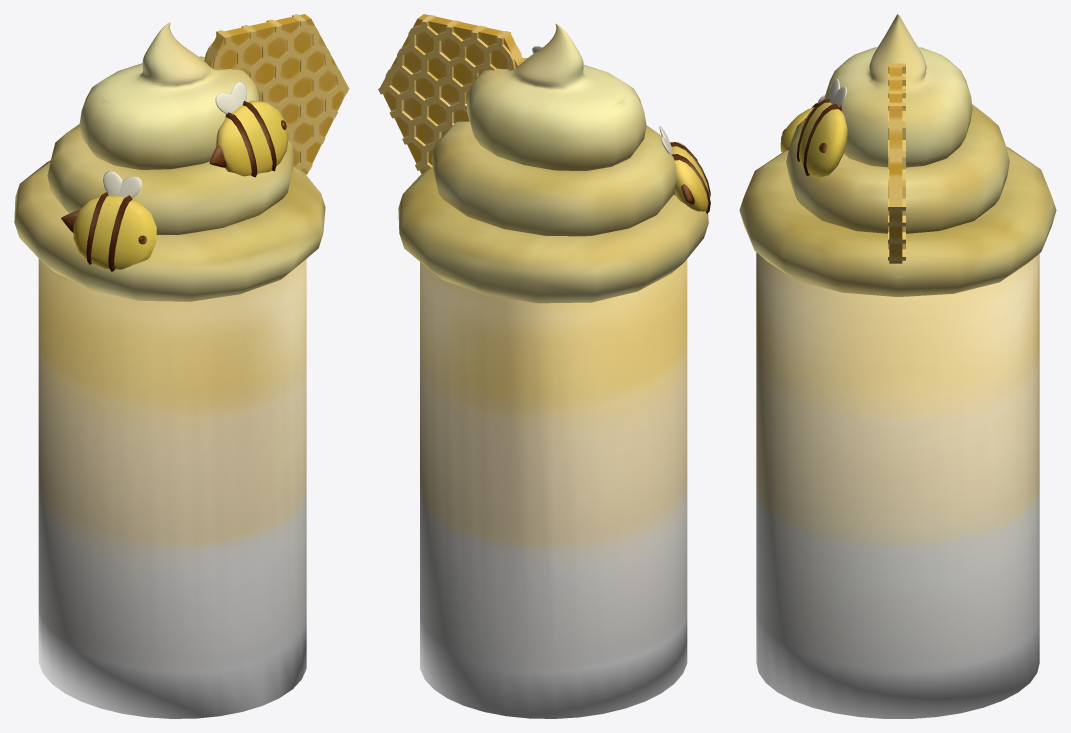
The model's file is milkshake.glb.
3 views of the same model, side by side, from view 1: azimuth 30°, elevation 25°; view 2: azimuth 150°, elevation 25°; view 3: azimuth 270°, elevation 25° (orthographic).
Visible parts, largest first — view 1: Object_2; view 2: Object_2; view 3: Object_2.
Part boxes in pixels (left/top/right/bottom): Object_2: left=14, top=14, right=349, bottom=718; Object_2: left=378, top=14, right=710, bottom=718; Object_2: left=739, top=14, right=1056, bottom=718.
Bounding box in the file's own units: 2.15 × 4.27 × 1.9.
1 material, 1 textured.
